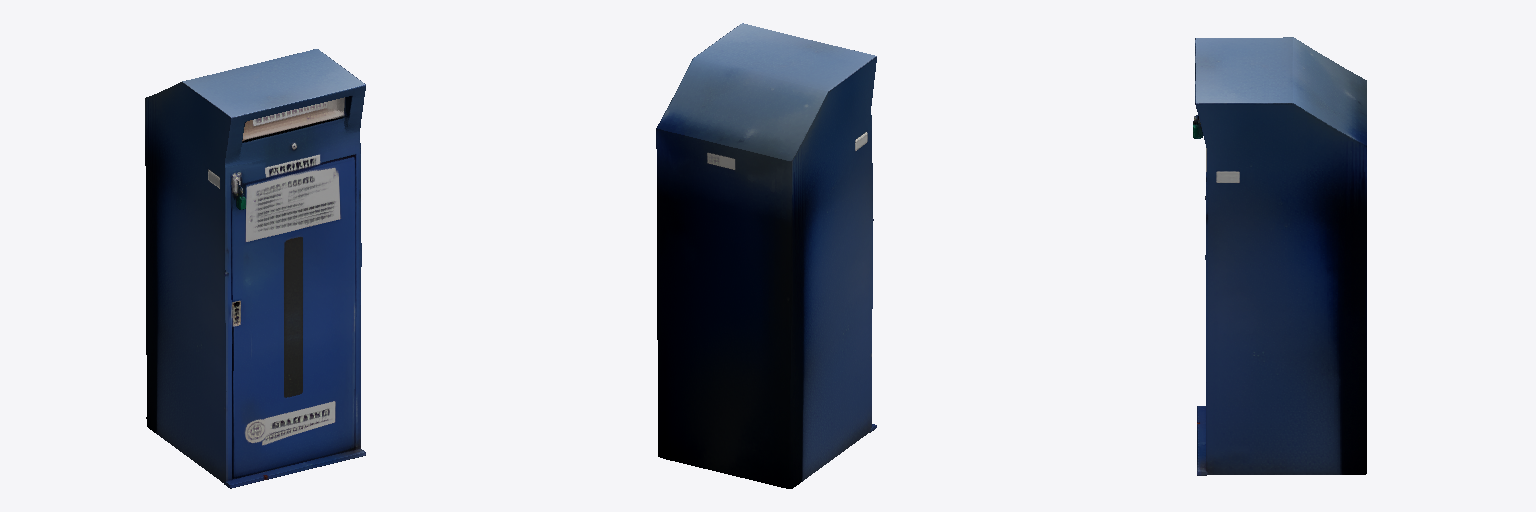
3 views of the same model, side by side, from view 1: azimuth 30°, elevation 25°; view 2: azimuth 150°, elevation 25°; view 3: azimuth 270°, elevation 25° (orthographic).
Visible parts, largest first — view 1: geometry_0; view 2: geometry_0; view 3: geometry_0.
Boxes of the visible parts, box(x1,y1,x2,y2) form: geometry_0: box(145, 49, 365, 488); geometry_0: box(656, 23, 876, 488); geometry_0: box(1193, 37, 1366, 475).
Size of the model in its own units: 0.386 by 0.9974 by 0.4246.
Materials: 1 (1 with a texture image).